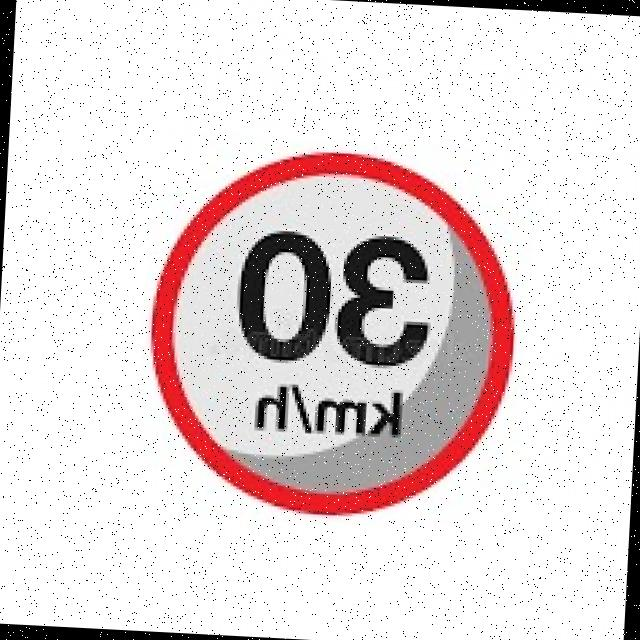speed_limit_30: (132, 132, 530, 525)
